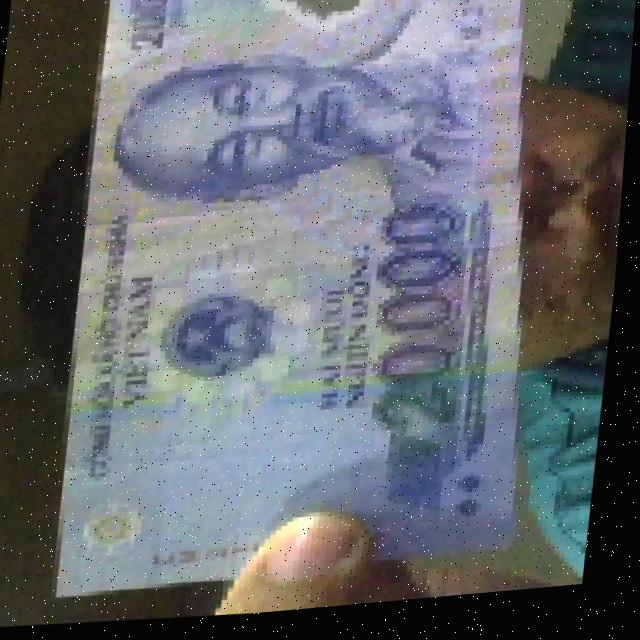20 000 VND: (37, 0, 577, 623)
